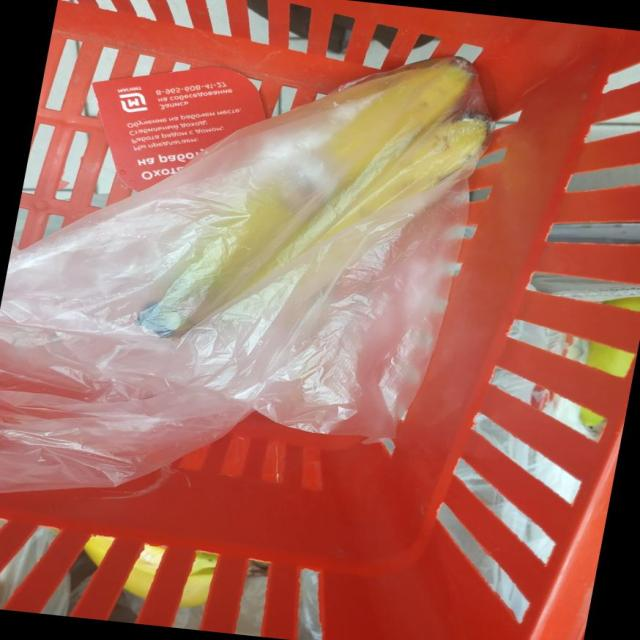Banana: (273, 112, 491, 263), (137, 168, 329, 335), (289, 59, 472, 191)
